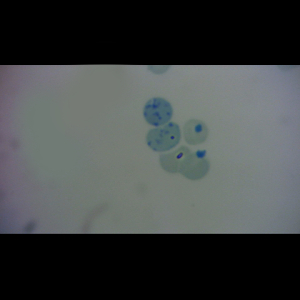aggregate reticulocyte: (144, 121, 182, 153), (142, 96, 174, 128)
erythrocyte: (178, 149, 212, 182), (158, 146, 194, 174), (182, 117, 210, 147)
